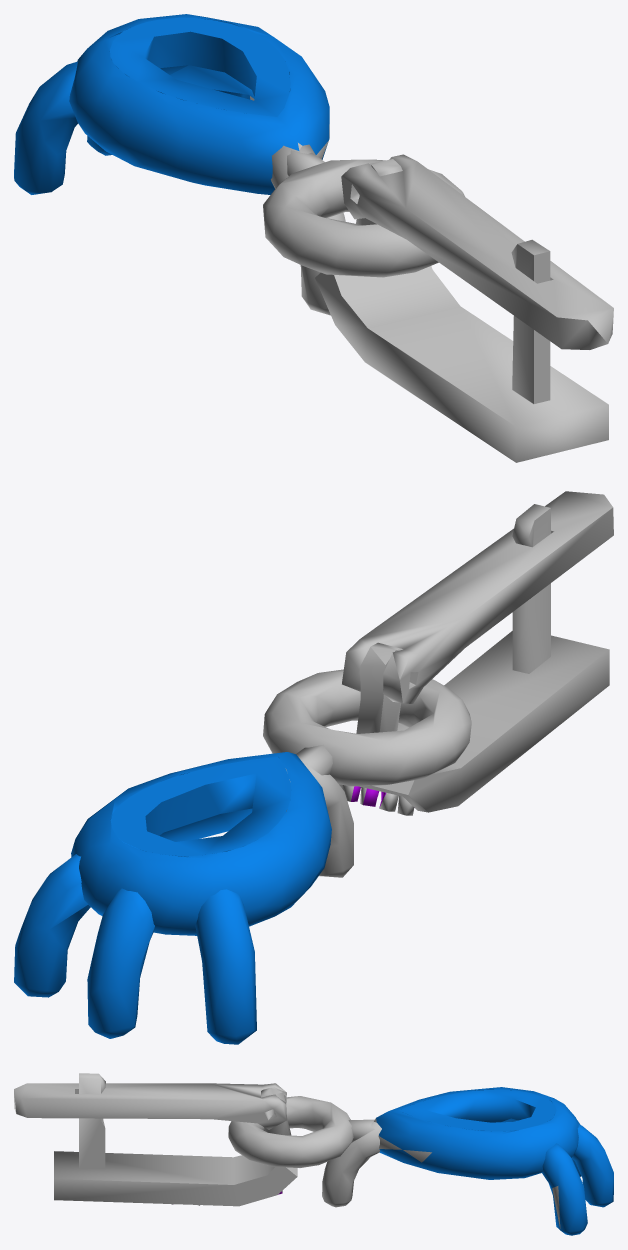
The model's file is earringotherglb.glb.
3 views of the same model, one above another, from view 1: azimuth 30°, elevation 25°; view 2: azimuth 150°, elevation 25°; view 3: azimuth 270°, elevation 25° (orthographic). The views are drawn at different scales.
Parts seen in each view (by area): view 1: Uploads_Files_781761_Free+Earring+With+Pear; view 2: Uploads_Files_781761_Free+Earring+With+Pear; view 3: Uploads_Files_781761_Free+Earring+With+Pear.
Part boxes in pixels (x1,y1,x2,y2): Uploads_Files_781761_Free+Earring+With+Pear: (14,14,613,462); Uploads_Files_781761_Free+Earring+With+Pear: (14,491,613,1044); Uploads_Files_781761_Free+Earring+With+Pear: (14,1073,613,1235).
Bounding box in the file's own units: 1.46 × 1.25 × 5.28.
